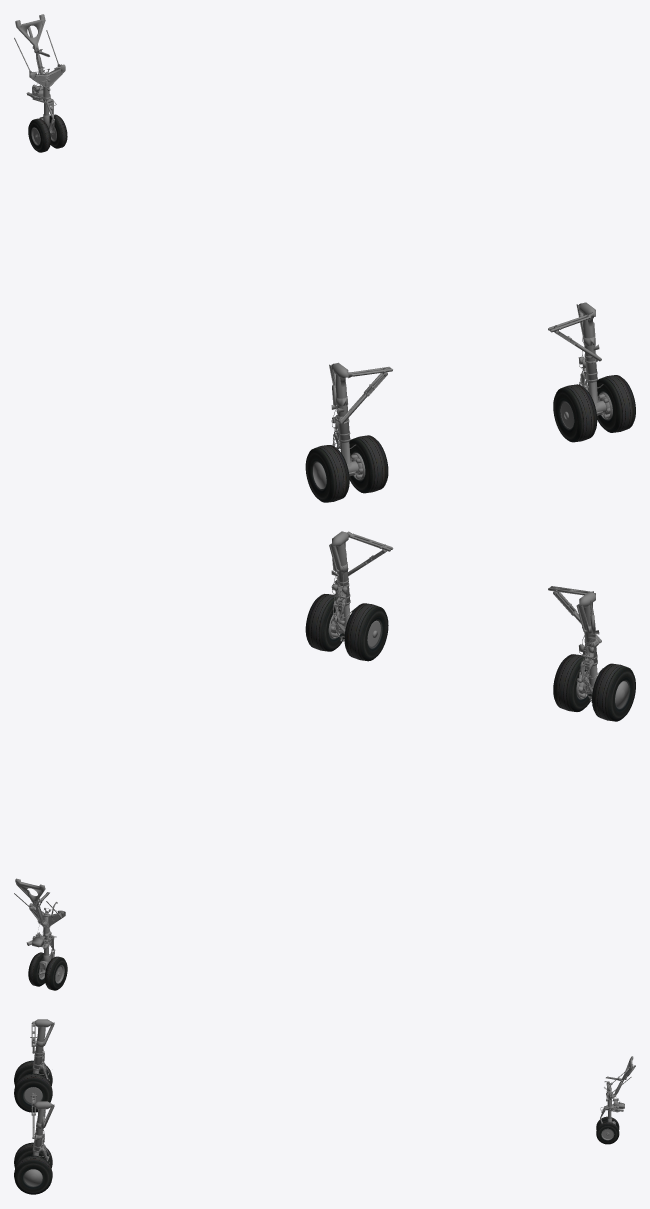
3 views of the same model, one above another, from view 1: azimuth 30°, elevation 25°; view 2: azimuth 150°, elevation 25°; view 3: azimuth 270°, elevation 25° (orthographic). The views are drawn at different scales.
Parts seen in each view (by area): view 1: mlg.tireR, mlg.tireL, mlg.upperL, mlg.upperR, nlg.upper, nlg.tire; view 2: mlg.tireR, mlg.tireL, mlg.upperR, mlg.upperL, nlg.tire, nlg.upper; view 3: mlg.tireR, mlg.tireL, mlg.upperR, mlg.upperL, nlg.tire, nlg.upper.
Part boxes in pixels (<box>): mlg.tireR: <box>553,375,635,442</box>; mlg.tireL: <box>305,435,388,502</box>; mlg.upperL: <box>329,362,352,442</box>; mlg.upperR: <box>576,302,599,382</box>; nlg.upper: <box>14,30,65,106</box>; nlg.tire: <box>28,114,67,152</box>; mlg.tireR: <box>305,594,388,661</box>; mlg.tireL: <box>553,654,635,721</box>; mlg.upperR: <box>329,531,353,605</box>; mlg.upperL: <box>576,591,599,674</box>; nlg.tire: <box>28,952,67,990</box>; nlg.upper: <box>14,893,65,949</box>; mlg.tireR: <box>14,1142,52,1194</box>; mlg.tireL: <box>14,1060,52,1112</box>; mlg.upperR: <box>31,1101,54,1152</box>; mlg.upperL: <box>31,1019,54,1070</box>; nlg.tire: <box>596,1116,619,1144</box>; nlg.upper: <box>600,1072,631,1112</box>.
Bounding box in the file's own units: 7.1 × 2.77 × 18.47.
2 materials, 2 textured.
